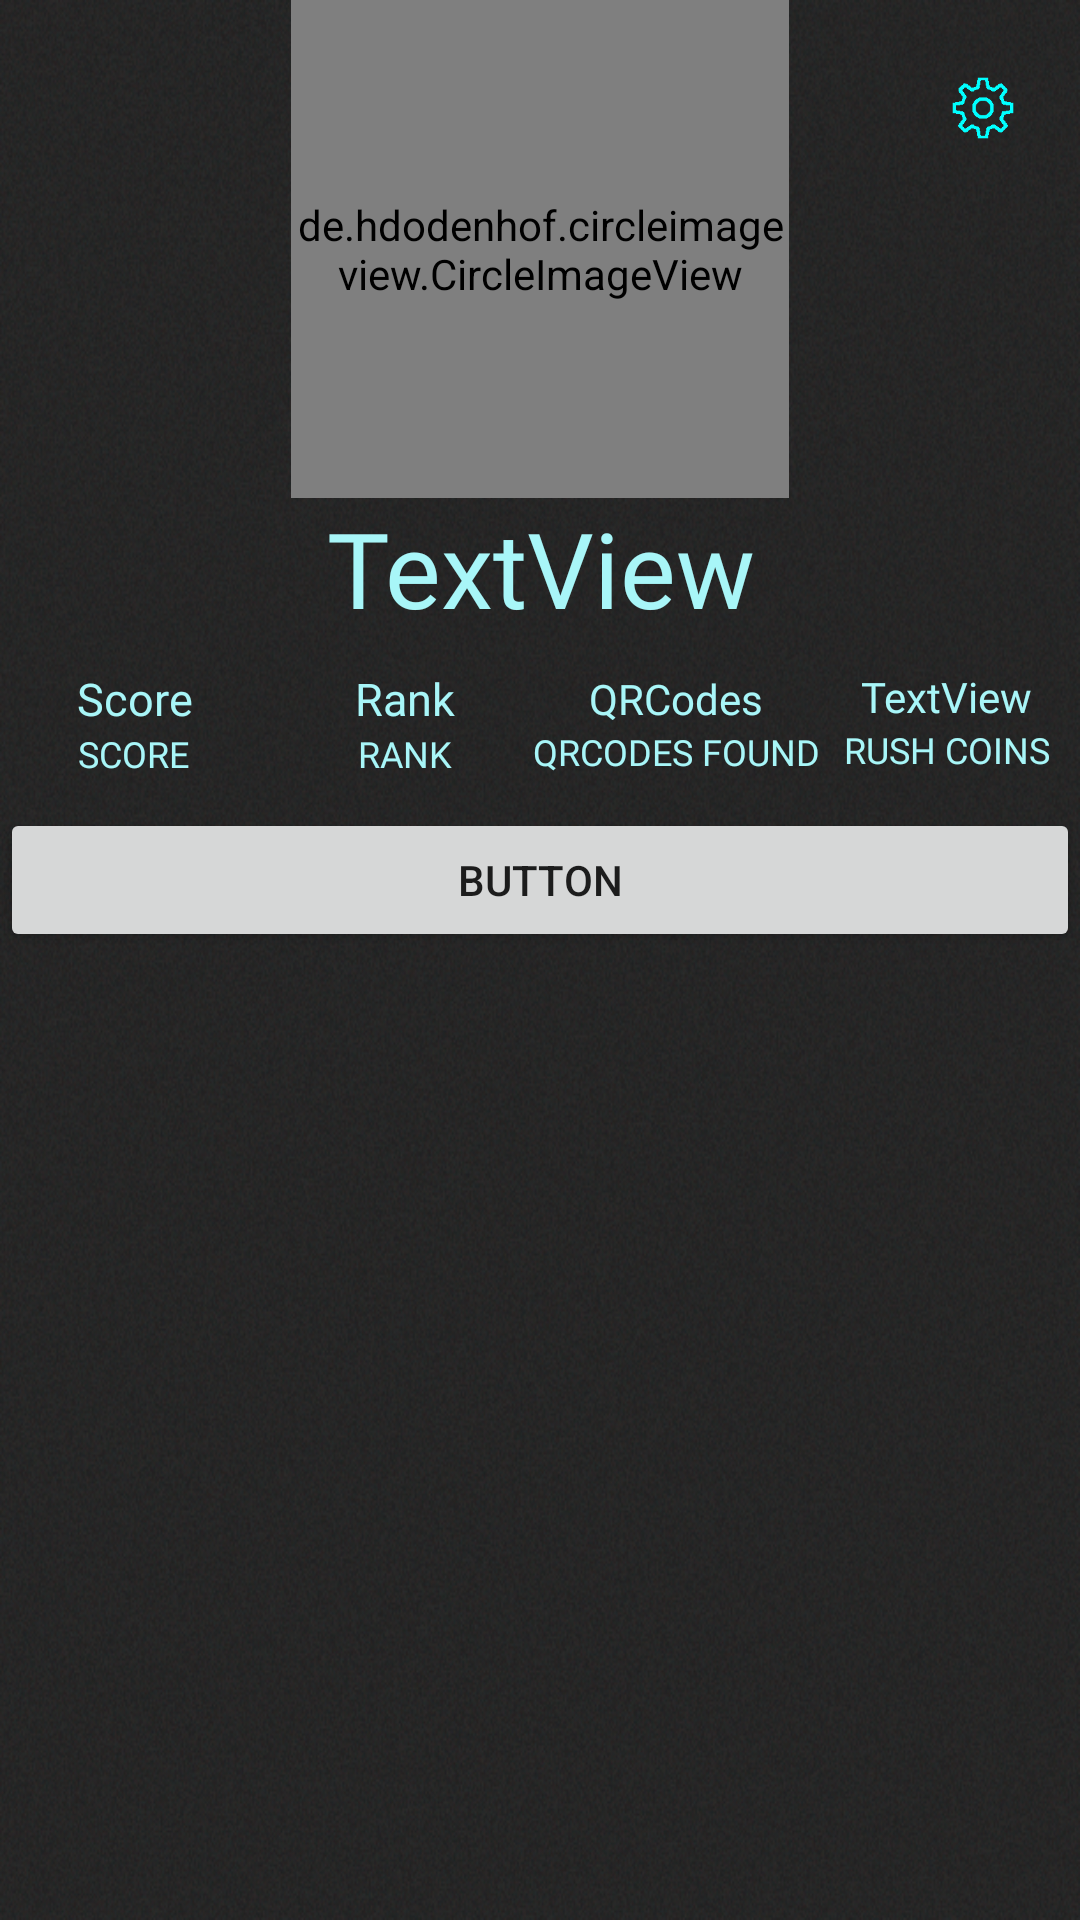

Icons on this 1080 x 1920 Android screen, each with its box as (x1,y1,x2,y2):
settings: (952,77,1014,139)
